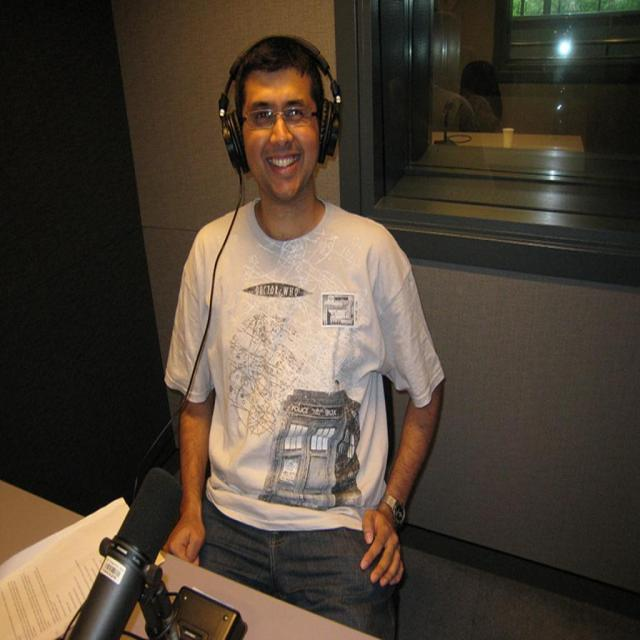nomask: (244, 64, 316, 198)
